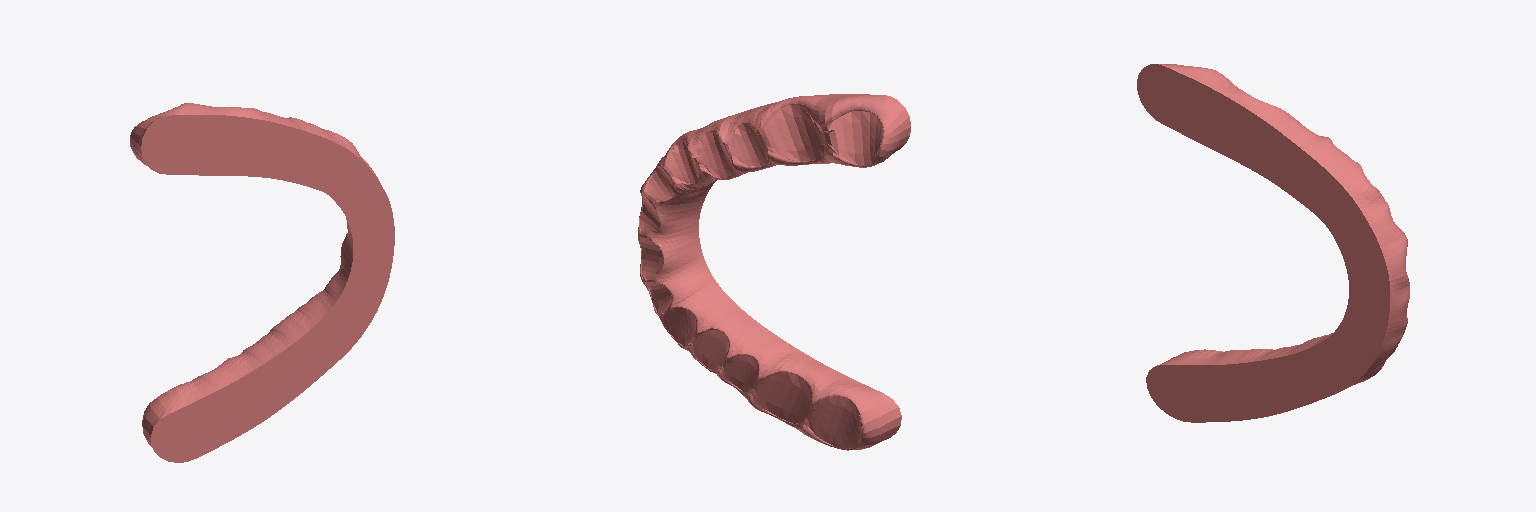
3 renders of one model, left to right at view 1: azimuth 30°, elevation 25°; view 2: azimuth 150°, elevation 25°; view 3: azimuth 330°, elevation 25°, orthographic.
Bounding box in the file's own units: 50.19 × 65.31 × 9.57.
Materials: 1 (1 with a texture image).